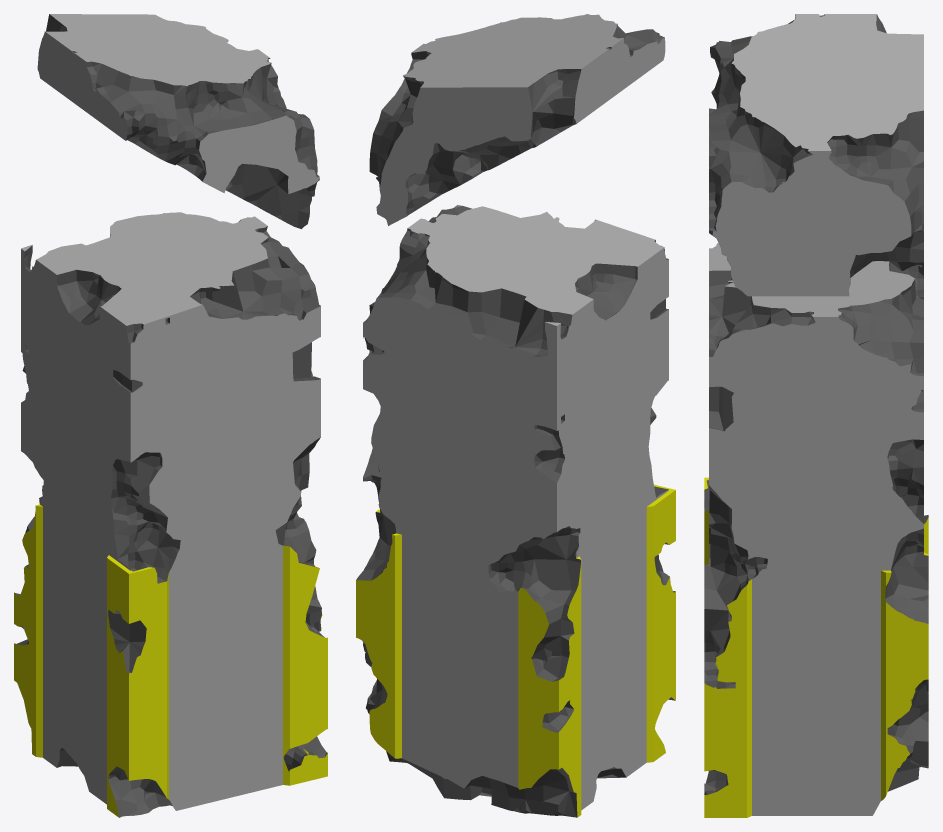
Rendered from pillar very old 2.glb.
3 views of the same model, side by side, from view 1: azimuth 30°, elevation 25°; view 2: azimuth 150°, elevation 25°; view 3: azimuth 270°, elevation 25° (orthographic). The views are drawn at different scales.
Visible parts, largest first — view 1: pillier détruit.001; view 2: pillier détruit.001; view 3: pillier détruit.001.
Part boxes in pixels (x1,y1,x2,y2): pillier détruit.001: [14, 14, 327, 817]; pillier détruit.001: [356, 14, 675, 817]; pillier détruit.001: [704, 14, 928, 817].
Bounding box in the file's own units: 3.35 × 11.69 × 3.35.
